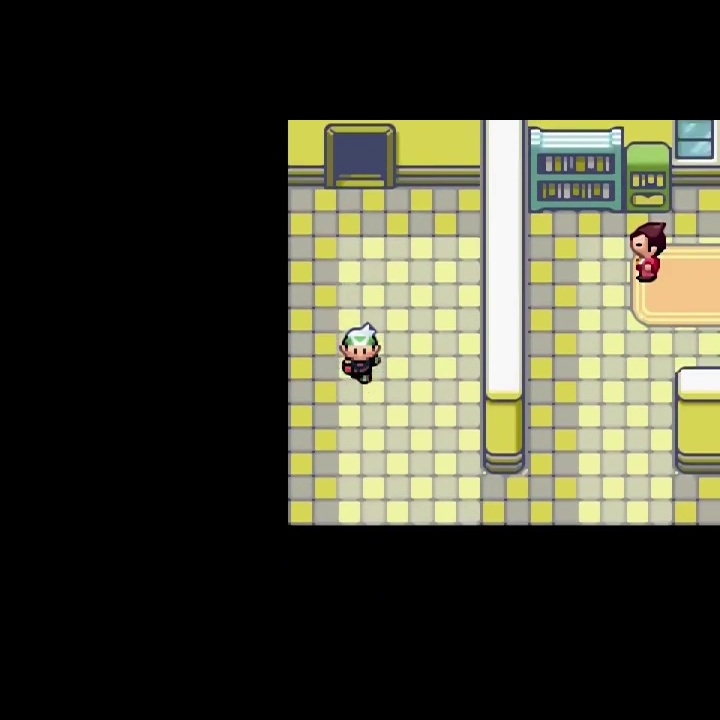agent: (336, 319, 384, 387)
npc: (627, 218, 672, 289)
